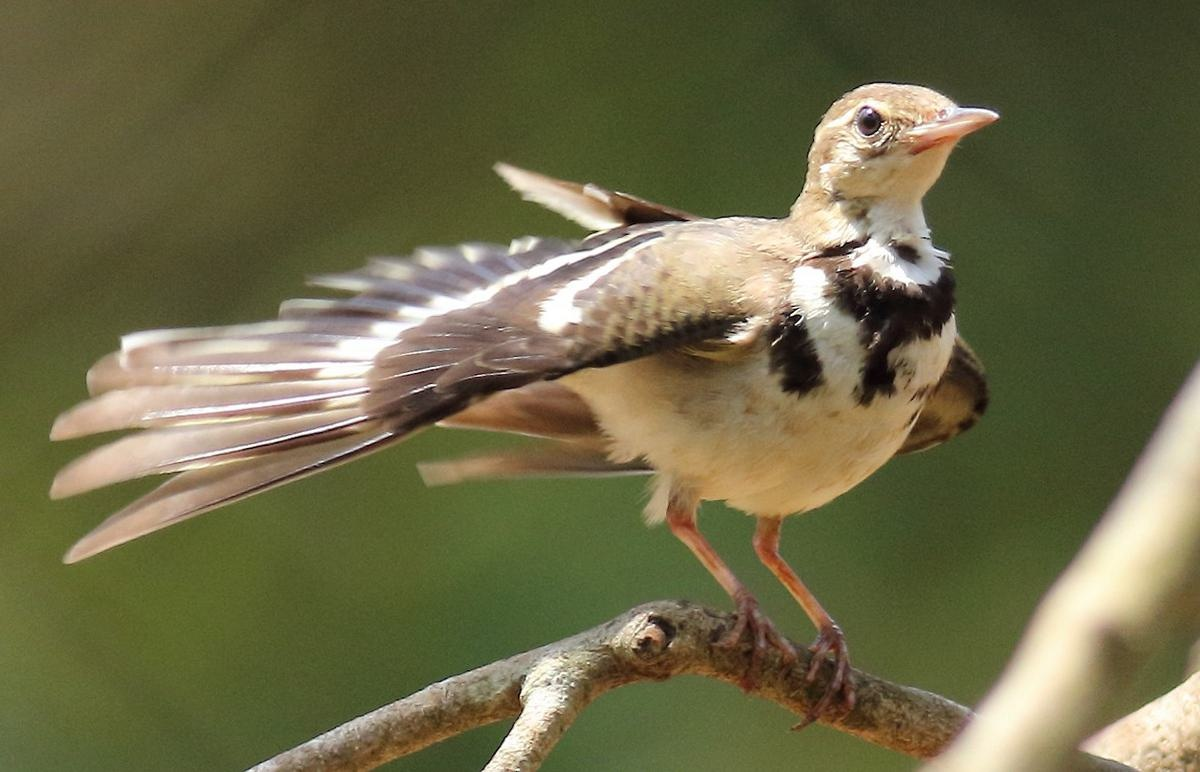wagtail: (166, 62, 1044, 576)
